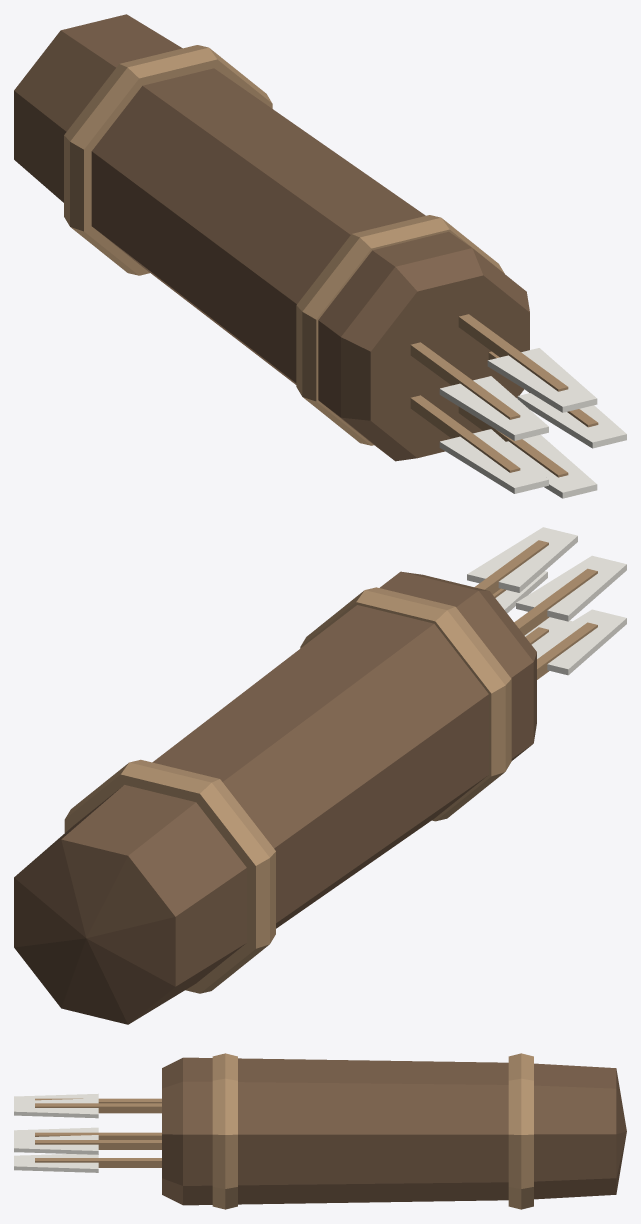
File: hunterquiver.glb
The picture shows the model from 3 angles, top to bottom: view 1: azimuth 30°, elevation 25°; view 2: azimuth 150°, elevation 25°; view 3: azimuth 270°, elevation 25°; orthographic projection. The views are drawn at different scales.
Parts seen in each view (by area): view 1: hunterquiver; view 2: hunterquiver; view 3: hunterquiver.
Boxes of the visible parts, x1,y1,x2,y2 form: hunterquiver: (14,14,626,498); hunterquiver: (14,527,626,1024); hunterquiver: (14,1053,626,1209).
Size of the model in its own units: 0.1367 by 0.1367 by 0.58.
